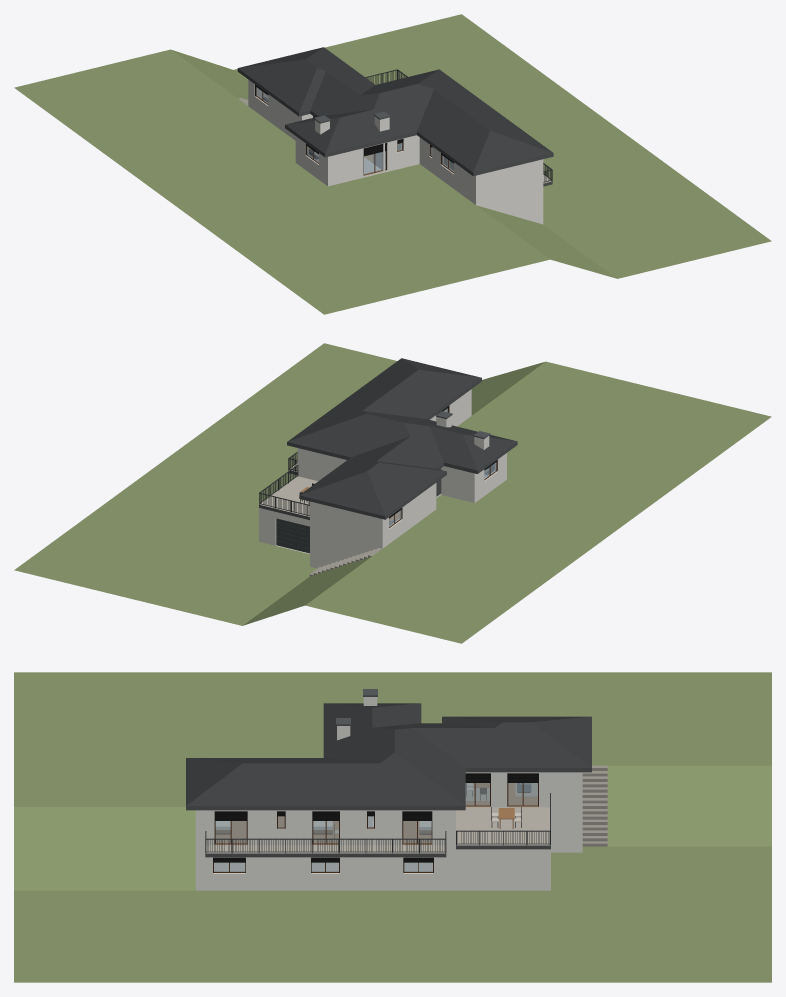
3 renders of one model, top to bottom at view 1: azimuth 30°, elevation 25°; view 2: azimuth 150°, elevation 25°; view 3: azimuth 270°, elevation 25°, orthographic. The views are drawn at different scales.
Visible parts, largest first — view 1: Terreno_Modelado, Cobertura_4_Aguas, Piso1_Paredes_Exteriores, Piso0_Paredes_Exteriores, Piso1_Laje_Pavimento, Vidros; view 2: Terreno_Modelado, Cobertura_4_Aguas, Piso1_Paredes_Exteriores, Terraco_34m2, Embasamento_Sala, Gradeamentos_Ferro, Piso0_Portao_Garagem, Piso0_Paredes_Exteriores, Piso1_Laje_Pavimento; view 3: Terreno_Modelado, Cobertura_4_Aguas, Piso0_Paredes_Exteriores, Piso1_Paredes_Exteriores, Vidros, Terraco_34m2, Gradeamentos_Ferro, Varanda_18m2, Estores_Exteriores, Piso1_Laje_Pavimento, Embasamento_Sala, Caixilharia_Nogueira (+3 smaller).
Part boxes in pixels (x1,y1,x2,y2): Terreno_Modelado: (14, 14, 771, 314); Cobertura_4_Aguas: (237, 47, 553, 176); Piso1_Paredes_Exteriores: (248, 79, 543, 203); Piso0_Paredes_Exteriores: (479, 190, 543, 224); Piso1_Laje_Pavimento: (248, 105, 543, 205); Vidros: (256, 87, 453, 174); Terreno_Modelado: (14, 343, 771, 643); Cobertura_4_Aguas: (287, 358, 517, 519); Piso1_Paredes_Exteriores: (297, 389, 506, 546); Terraco_34m2: (259, 476, 317, 519); Embasamento_Sala: (310, 533, 376, 568); Gradeamentos_Ferro: (259, 451, 309, 516); Piso0_Portao_Garagem: (276, 518, 309, 553); Piso0_Paredes_Exteriores: (259, 508, 309, 545); Piso1_Laje_Pavimento: (298, 410, 506, 548); Terreno_Modelado: (14, 672, 771, 982); Cobertura_4_Aguas: (186, 703, 591, 810); Piso0_Paredes_Exteriores: (195, 849, 550, 890); Piso1_Paredes_Exteriores: (195, 772, 582, 844); Vidros: (214, 783, 537, 871); Terraco_34m2: (456, 807, 550, 849); Gradeamentos_Ferro: (205, 793, 550, 853); Varanda_18m2: (205, 845, 446, 857); Estores_Exteriores: (213, 773, 538, 872); Piso1_Laje_Pavimento: (195, 783, 582, 849); Embasamento_Sala: (551, 811, 582, 852); Caixilharia_Nogueira: (213, 783, 538, 872).
Size of the model in its own units: 40 by 8.14 by 48.
